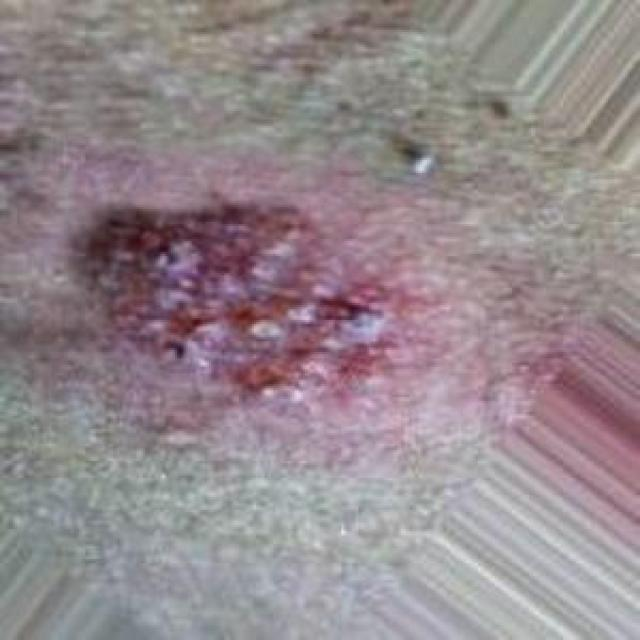Shingles: (69, 196, 397, 420)
